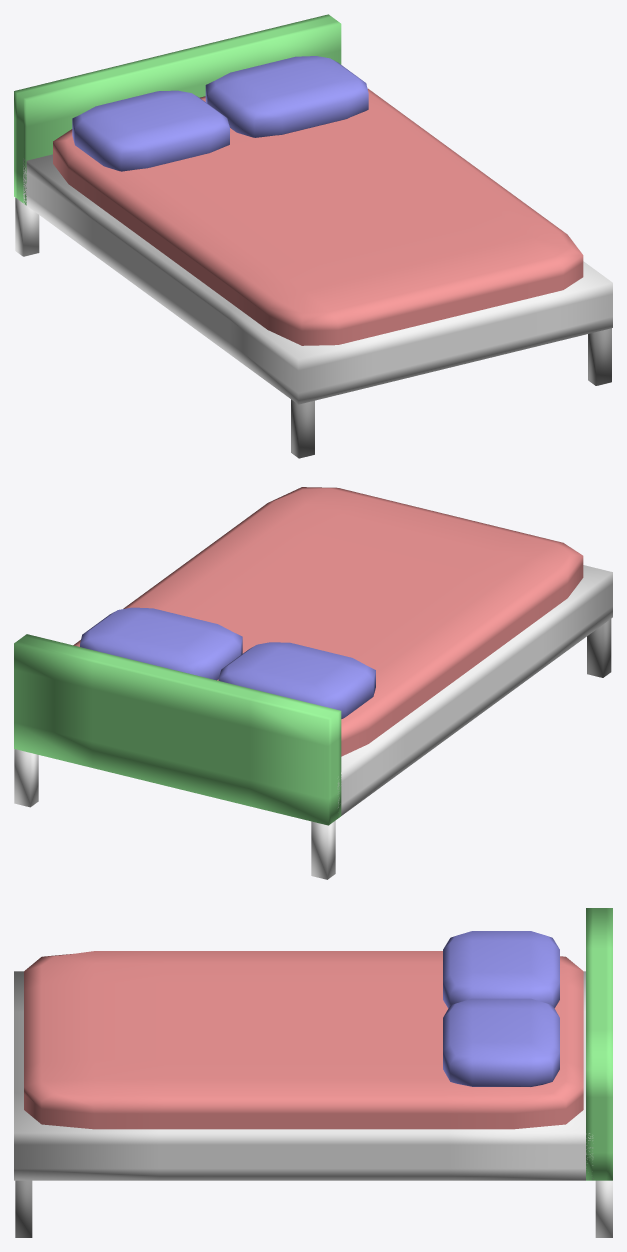
Rendered from bed.fbx.
3 renders of one model, top to bottom at view 1: azimuth 30°, elevation 25°; view 2: azimuth 150°, elevation 25°; view 3: azimuth 270°, elevation 25°, orthographic. The views are drawn at different scales.
Parts seen in each view (by area): view 1: bed; view 2: bed; view 3: bed.
Boxes of the visible parts, bbox=[...] form: bed: bbox=[14, 14, 612, 458]; bed: bbox=[14, 487, 612, 879]; bed: bbox=[14, 908, 612, 1237].
Bounding box in the file's own units: 173 × 84.12 × 271.
